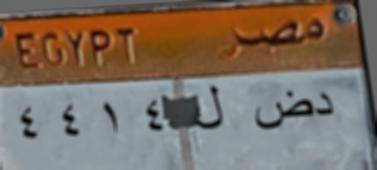1: (94, 98, 126, 138)
4: (140, 96, 166, 136), (15, 108, 40, 145), (61, 106, 85, 137)
daad: (249, 90, 313, 133)
daal: (314, 88, 338, 120)
laam: (192, 84, 225, 136)
